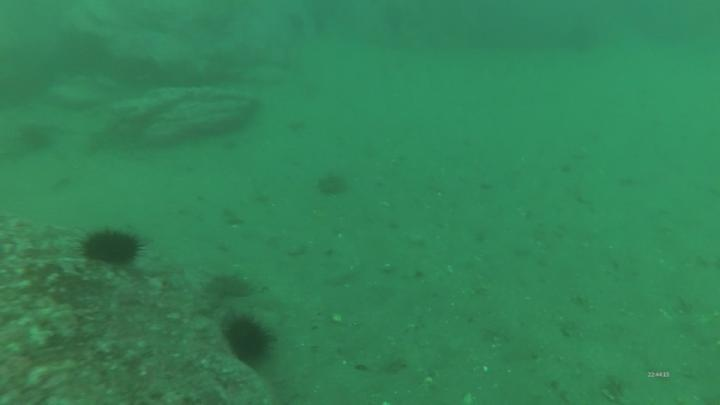echinus: (218, 309, 274, 372), (79, 225, 146, 271), (316, 168, 352, 199), (18, 126, 54, 153)
holothurian: (197, 273, 259, 312)
